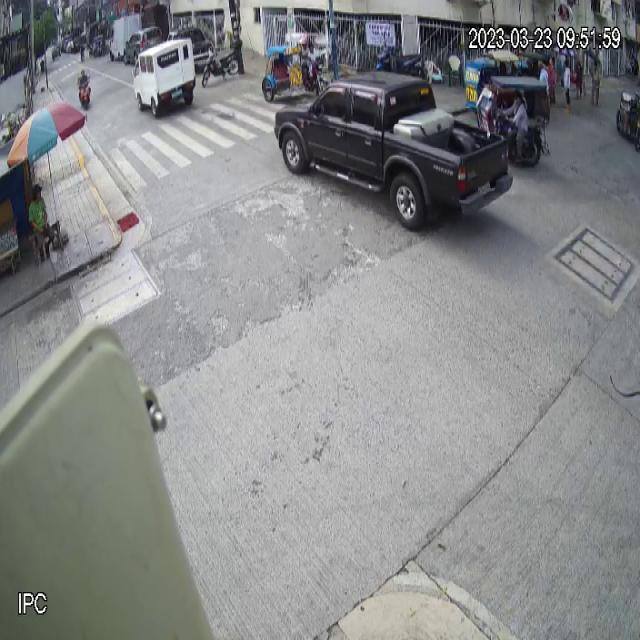Car: (274, 74, 513, 233)
Van: (131, 38, 197, 118)
